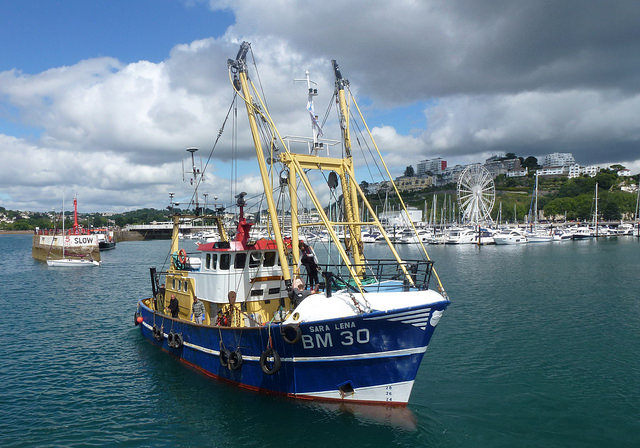boat: (48, 201, 101, 272)
fishing_boat: (130, 45, 441, 416)
